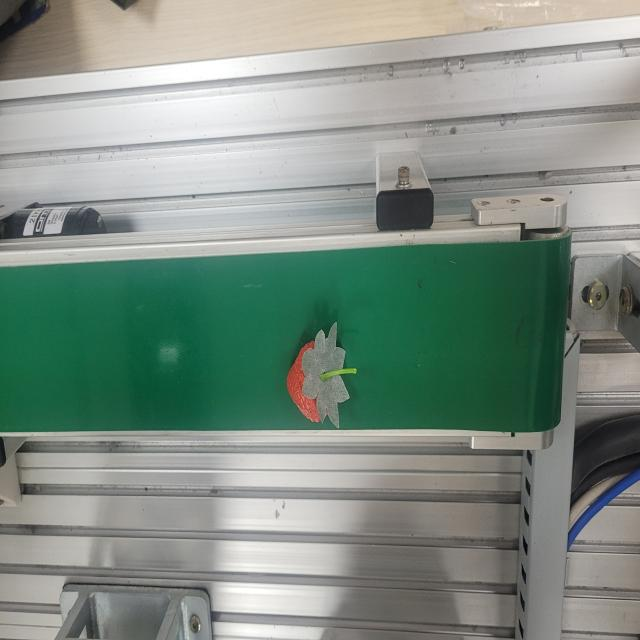Small Ripe Strawberry: (285, 318, 358, 432)
